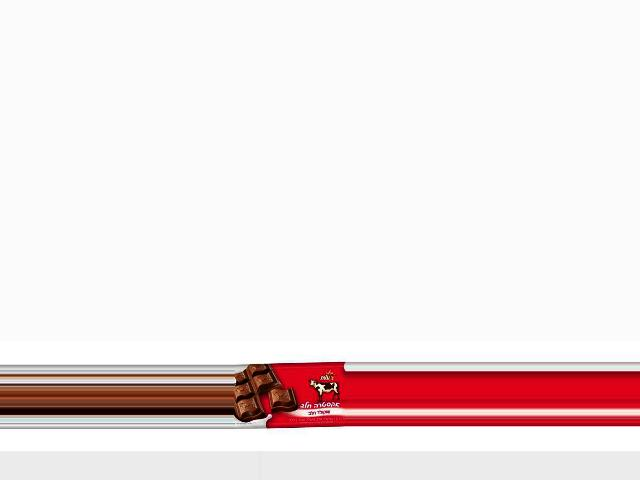chocolate: (234, 364, 346, 429)
